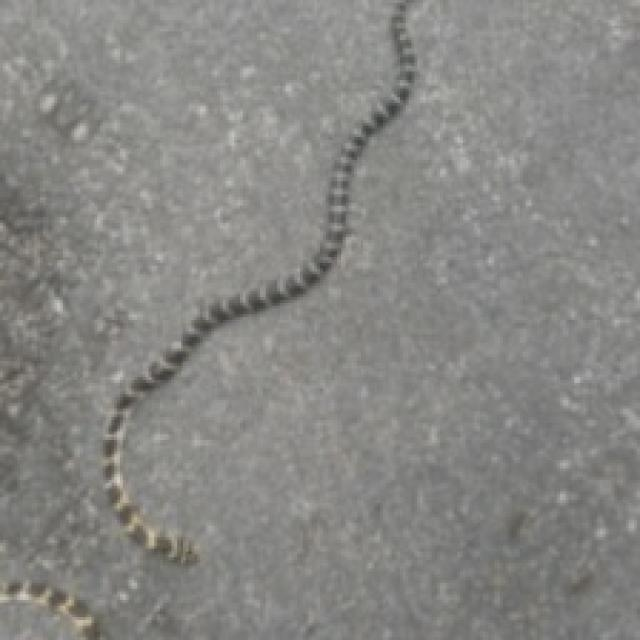king cobra: (0, 0, 397, 637)
